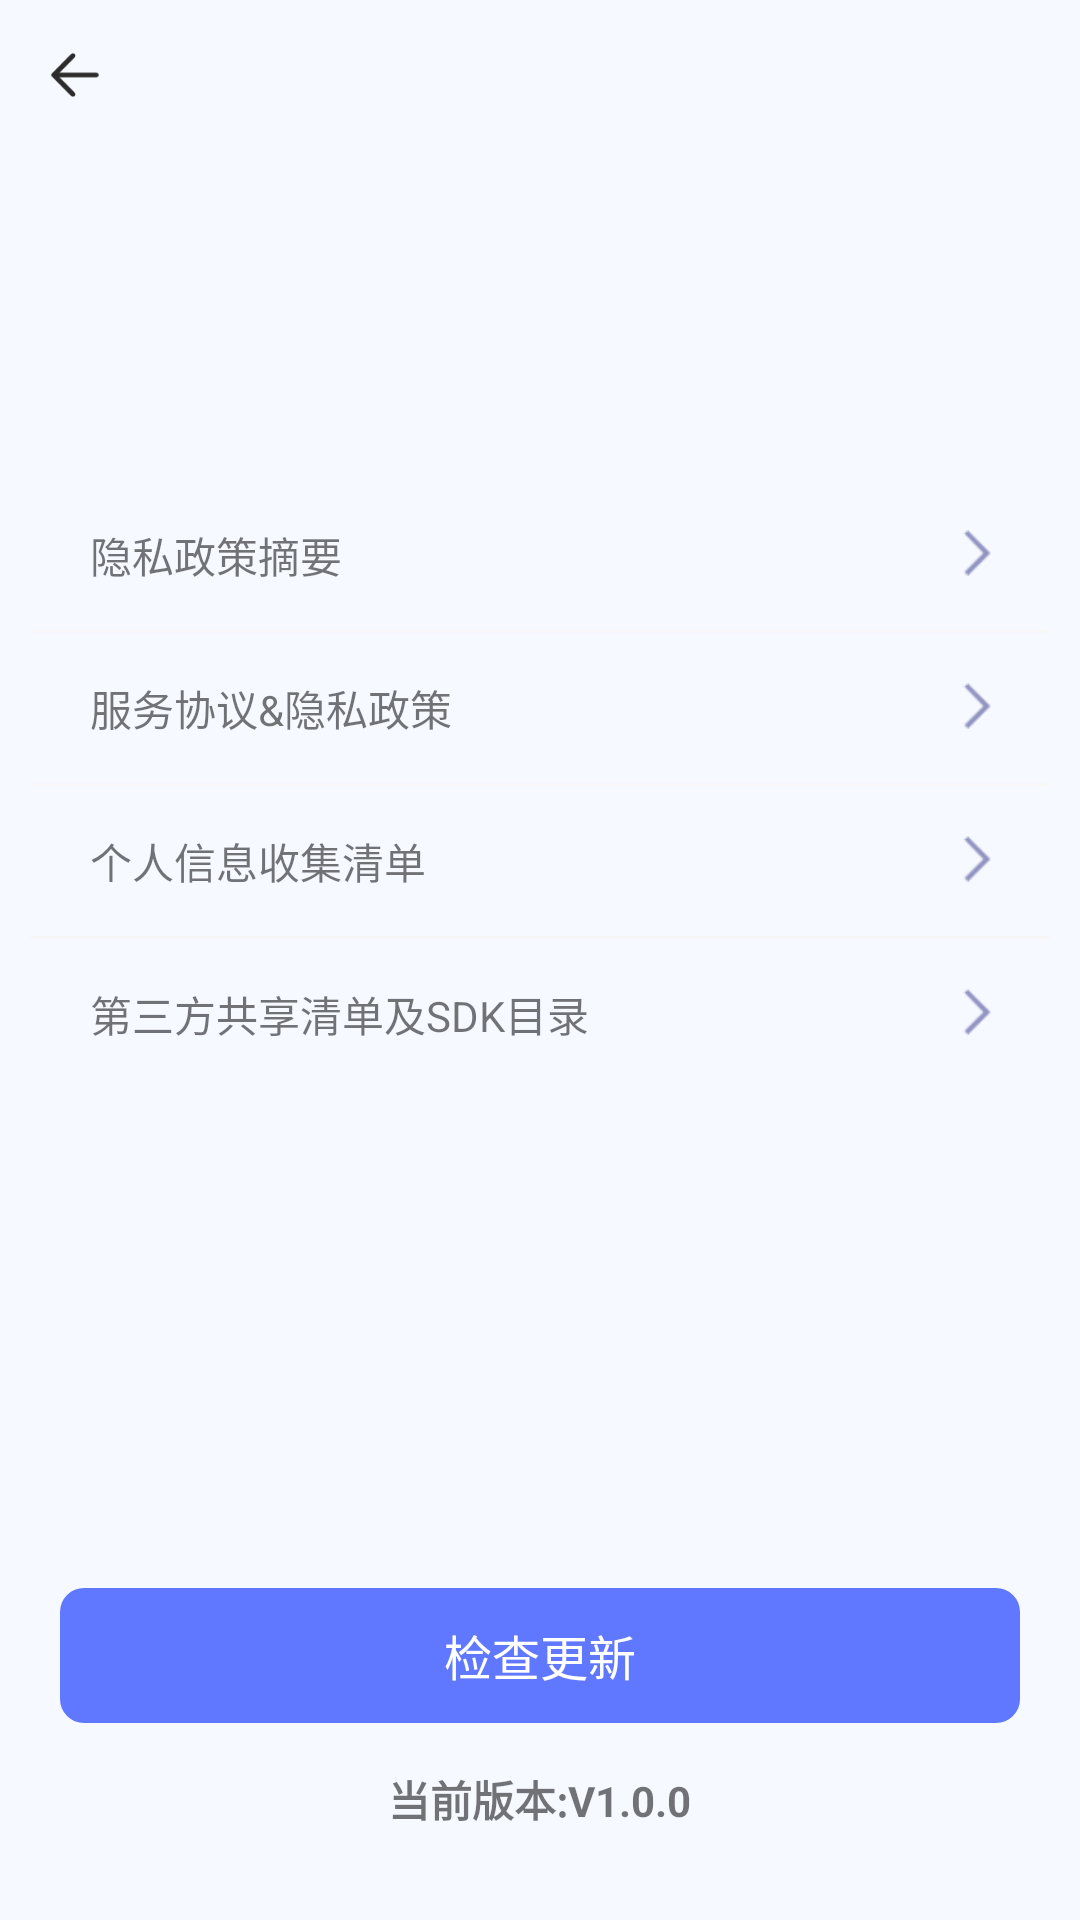

Locate icon controls on the screen. Image size 1080×1920, boxes as (x1, y1, x2, y2).
policy back: (51, 53, 99, 97)
